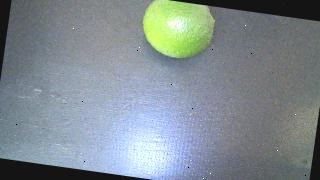EXPORTACION: (137, 0, 216, 63)
